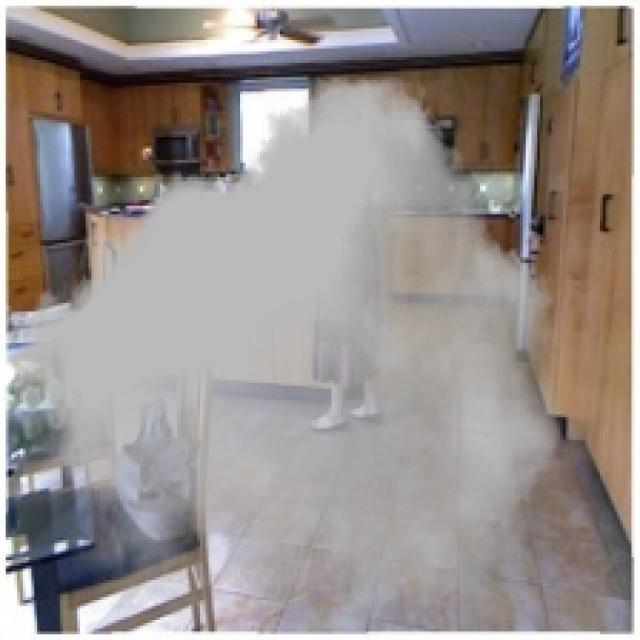smoke: (14, 77, 563, 629)
